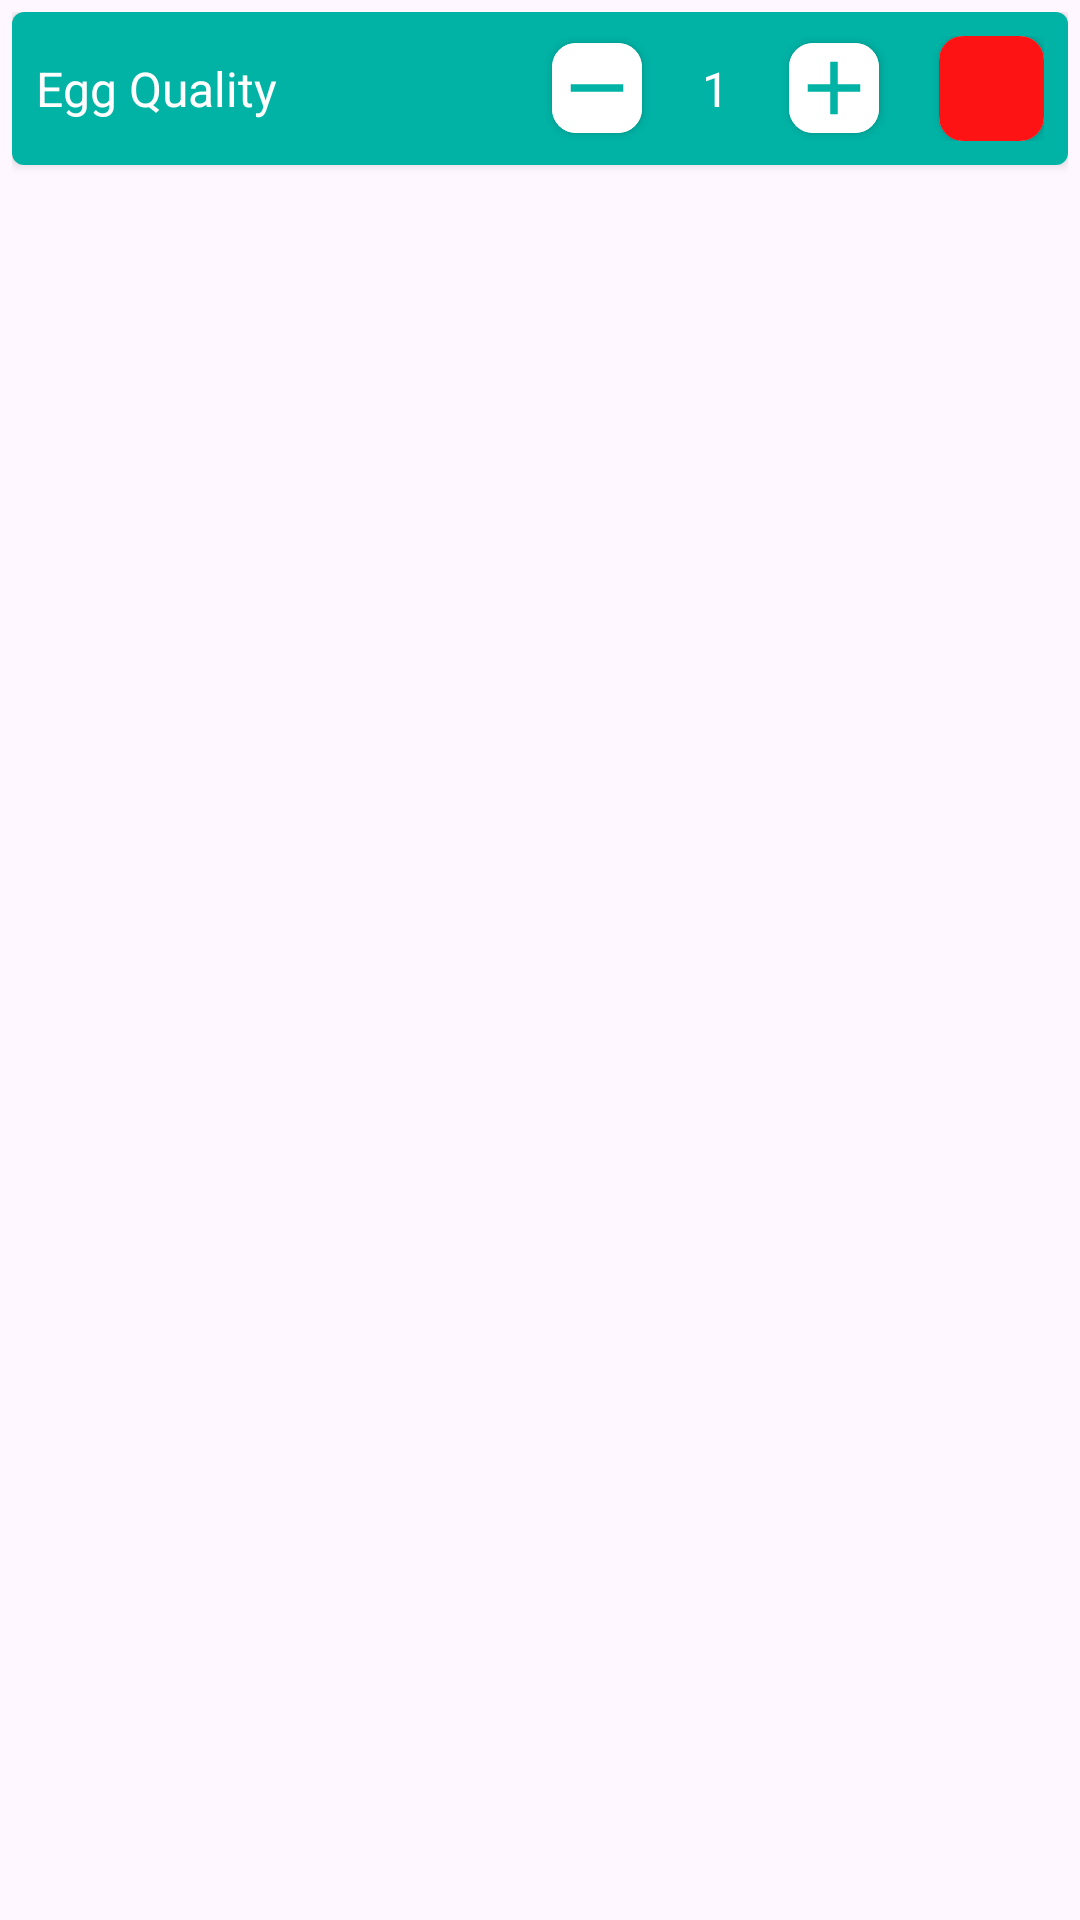

Icon bounding boxes for this 1080px x 1920px phone screenshot, format box=[x1, y1, x2, y2]:
add: box=[789, 43, 879, 133]
remove: box=[552, 43, 642, 133]
